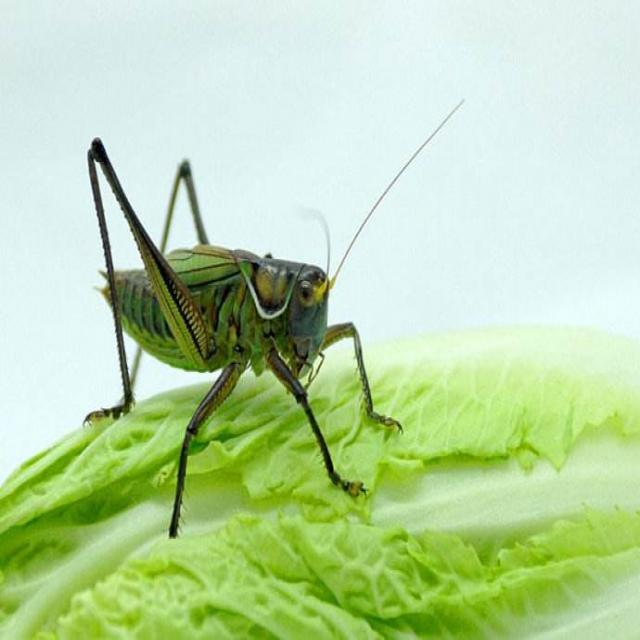ZhaMeng: (60, 118, 406, 491)
